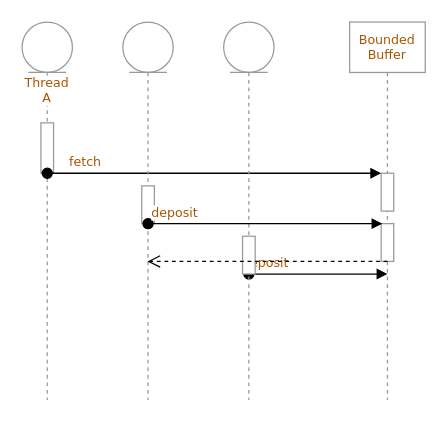
The diagram is 447 pixels wide and 422 high, and some of its shapes have lost their labels. Each missing label, with the centre of its shape:
Thread B: pixel 147 210
Thread C: pixel 248 210
